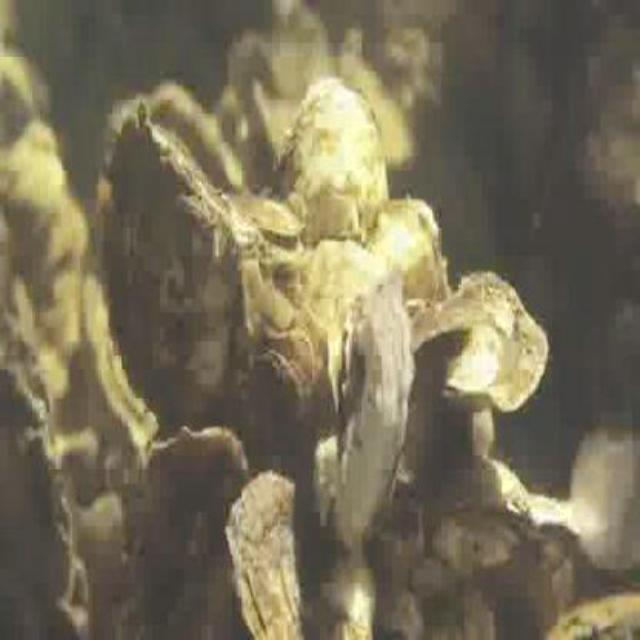Oyster-Closed: (110, 123, 254, 431), (0, 316, 101, 638), (335, 282, 412, 550), (407, 272, 548, 408), (275, 76, 388, 242), (100, 87, 246, 203), (229, 471, 322, 638), (151, 426, 248, 534), (339, 48, 419, 171), (305, 238, 404, 331), (367, 199, 450, 298), (256, 348, 311, 451), (274, 9, 331, 101), (434, 463, 528, 517), (512, 490, 595, 542), (438, 521, 520, 570), (557, 592, 638, 638), (231, 35, 274, 120), (415, 323, 472, 376), (234, 197, 304, 240), (541, 552, 577, 629)
Oyster-Open: (327, 309, 360, 416)
